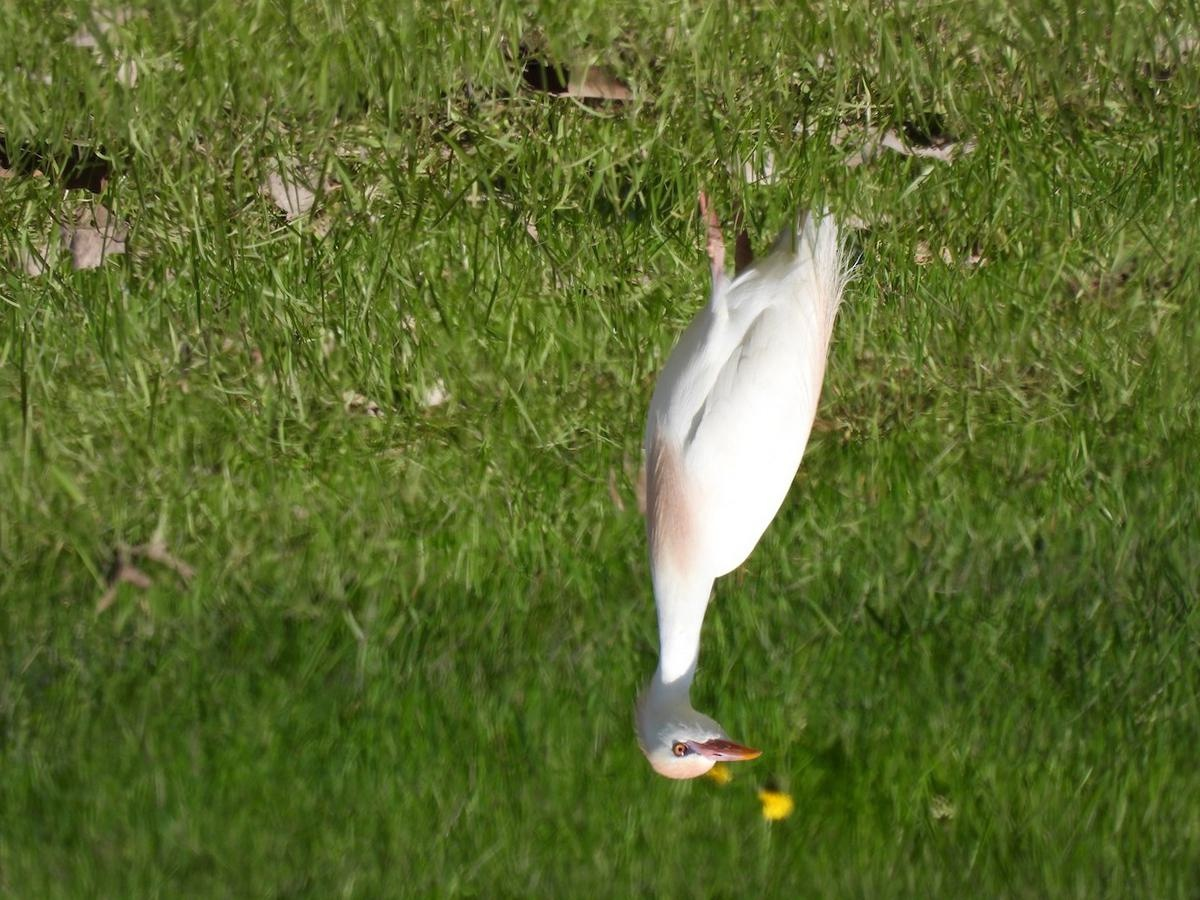egret: (616, 190, 865, 800)
